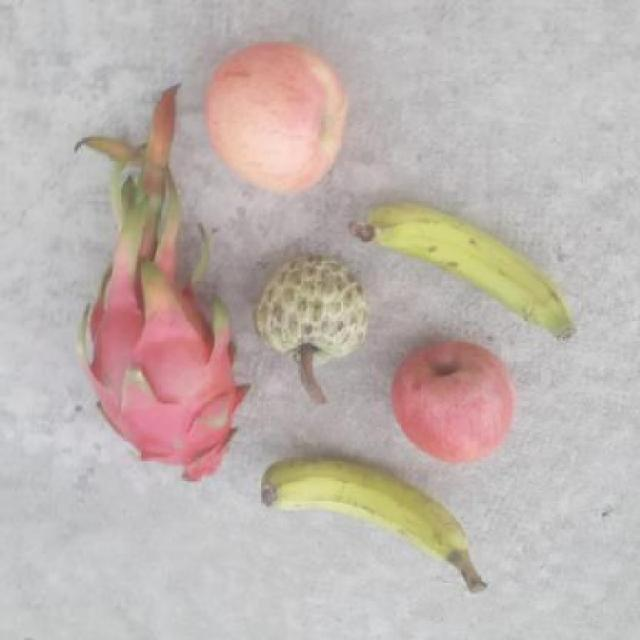apple: (202, 36, 353, 196), (390, 337, 518, 465)
banana: (260, 456, 488, 593), (363, 204, 580, 341)
dragon fruit: (79, 276, 243, 482)
sugar apple: (250, 250, 372, 376)
